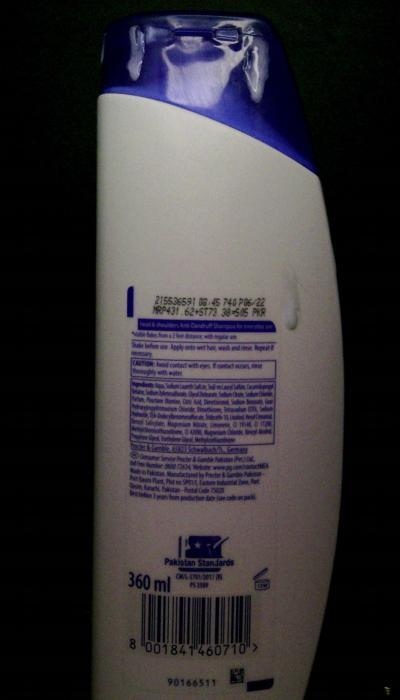pob_unacc: (230, 20, 272, 106), (122, 19, 162, 90), (276, 259, 312, 328)
